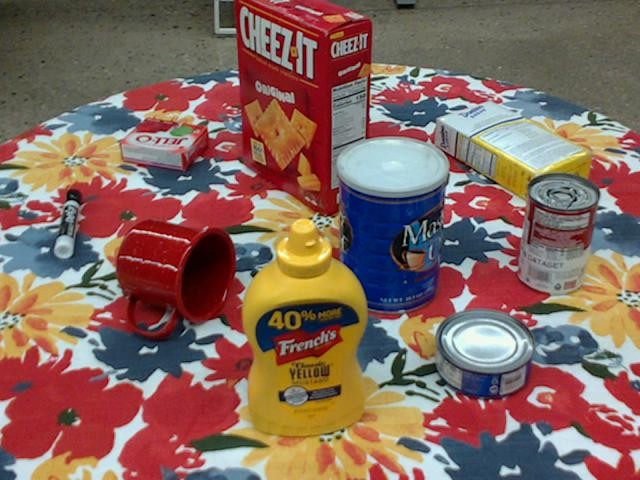cracker_box: (236, 0, 372, 211)
gelatin_box: (119, 118, 209, 171)
large_marker: (53, 188, 81, 257)
master_chef_can: (336, 136, 448, 316)
mug: (114, 219, 235, 337)
mustard_bottle: (240, 218, 366, 436)
potted_meat_can: (270, 45, 347, 119)
sugar_box: (436, 99, 594, 205)
tomato_soup_can: (519, 172, 599, 295)
tuna_fish_can: (433, 310, 533, 400)
